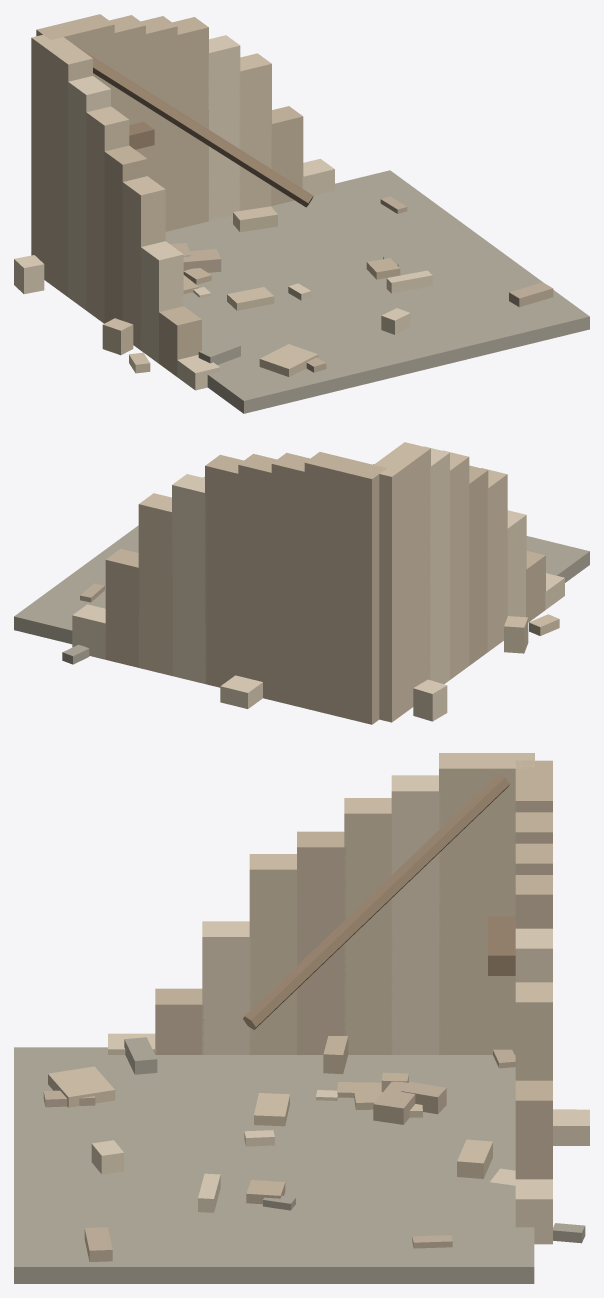
File: corner_ruin.glb
3 views of the same model, one above another, from view 1: azimuth 30°, elevation 25°; view 2: azimuth 150°, elevation 25°; view 3: azimuth 270°, elevation 25° (orthographic). The views are drawn at different scales.
Parts seen in each view (by area): view 1: stone_0, adobe2_5, adobe_11, adobe3_6, adobe3_12, adobe2_4, adobe_13, adobe_10, adobe_15, adobe_7, adobe2_14, wood_20 (+20 smaller); view 2: adobe2_1, adobe2_2, adobe2_3, adobe_10, adobe2_4, adobe2_5, adobe3_6, adobe_7, stone_0, adobe_11, adobe3_12, adobe_13 (+12 smaller); view 3: stone_0, adobe_11, adobe3_12, adobe_13, adobe2_14, adobe_15, adobe_10, adobe3_16, wood_20, adobe2_8, adobe_7, adobe2_17 (+20 smaller).
Boxes of the visible parts, x1,y1,x2,y2 form: stone_0: (165,170,589,413); adobe2_5: (172,17,208,228); adobe_11: (49,45,92,296); adobe3_6: (208,35,240,221); adobe3_12: (67,76,110,310); adobe2_4: (141,16,177,231); adobe_13: (86,106,129,323); adobe_10: (31,31,73,283); adobe_15: (122,176,165,350); adobe_7: (239,53,271,210); adobe2_14: (104,145,147,322); wood_20: (73,44,313,207); adobe2_1: (338,460,386,724); adobe2_2: (304,452,352,716); adobe2_3: (271,452,309,708); adobe_10: (366,456,411,722); adobe2_4: (238,454,276,700); adobe2_5: (205,454,243,687); adobe3_6: (172,474,206,684); adobe_7: (138,493,172,676); stone_0: (14,477,589,644); adobe_11: (385,442,430,708); adobe3_12: (424,446,449,683); adobe_13: (443,450,469,679); stone_0: (14,1047,534,1283); adobe_11: (439,753,487,1054); adobe3_12: (391,775,440,1054); adobe_13: (344,798,393,1054); adobe2_14: (297,831,345,1054); adobe_15: (249,854,298,1054); adobe_10: (486,753,534,1054); adobe3_16: (202,921,251,1054); wood_20: (243,773,509,1029); adobe2_8: (515,1080,552,1179); adobe_7: (515,982,552,1080); adobe2_17: (155,988,203,1054).
Bounding box in the file's own units: 4.71 × 2.7 × 4.65.
